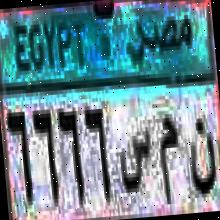6: (32, 102, 64, 210), (5, 104, 38, 208), (84, 101, 114, 206), (58, 104, 88, 208)
meem: (151, 109, 185, 209)
noon: (181, 108, 220, 199)
seen: (112, 116, 156, 200)
